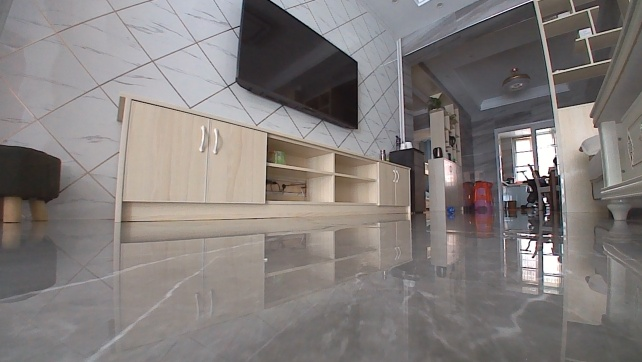TV_stand: (109, 90, 414, 227)
refrigerator: (387, 145, 427, 217)
